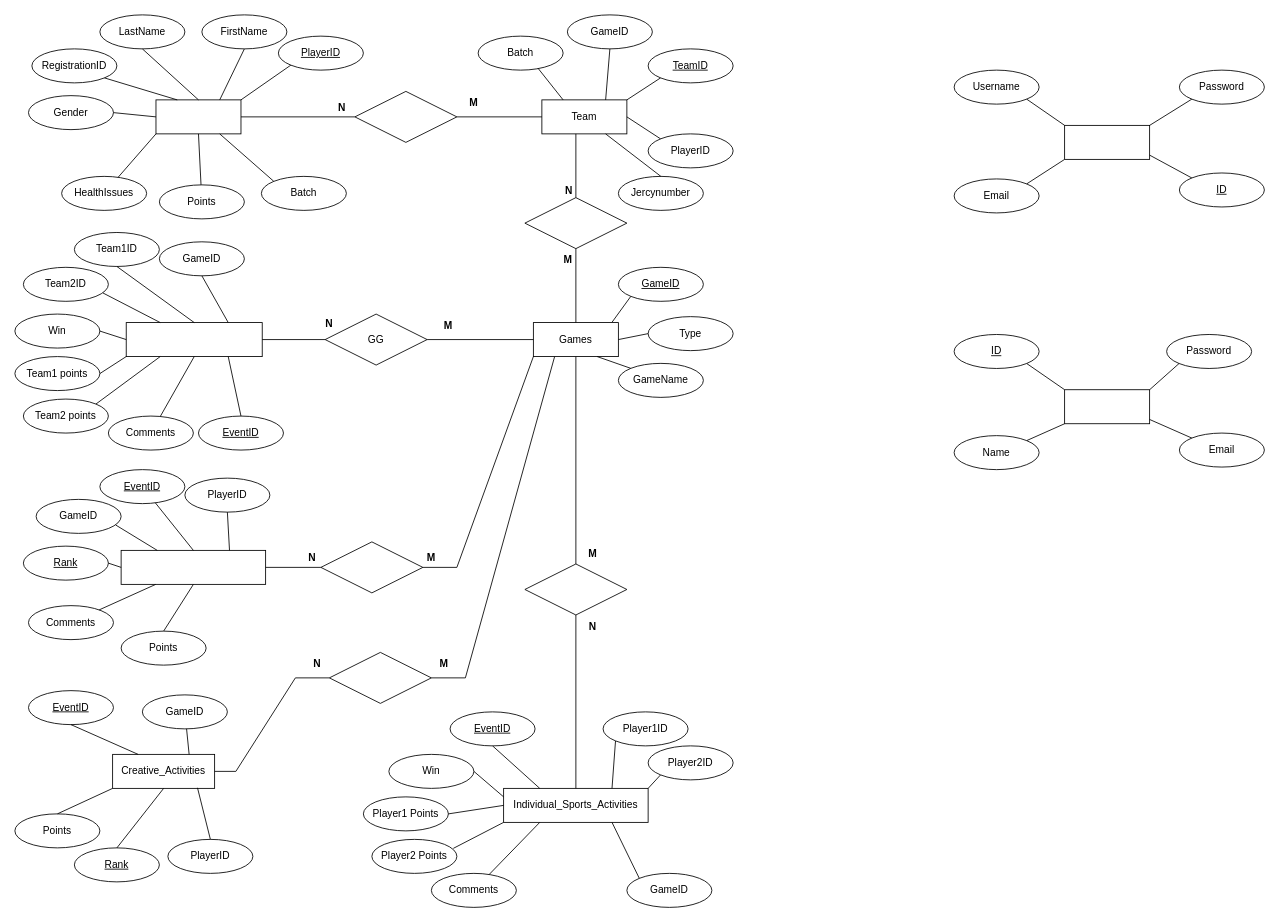
Image size: 1279x922. Some labels were removed from this diagram. Each missing label, with the centre of its shape:
"AdminLog" goes at (1107,406).
"AG" goes at (371,567).
"Athlatics" goes at (193,567).
"CG" goes at (380,677).
"Group_Sports_Activities" goes at (193,339).
"IG" goes at (575,589).
"Player" goes at (198,116).
"PT" goes at (405,116).
"TG" goes at (575,223).
"User" goes at (1107,142).
